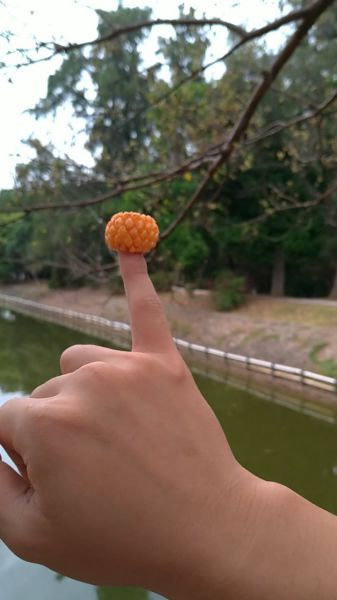eggs: (105, 207, 158, 255)
